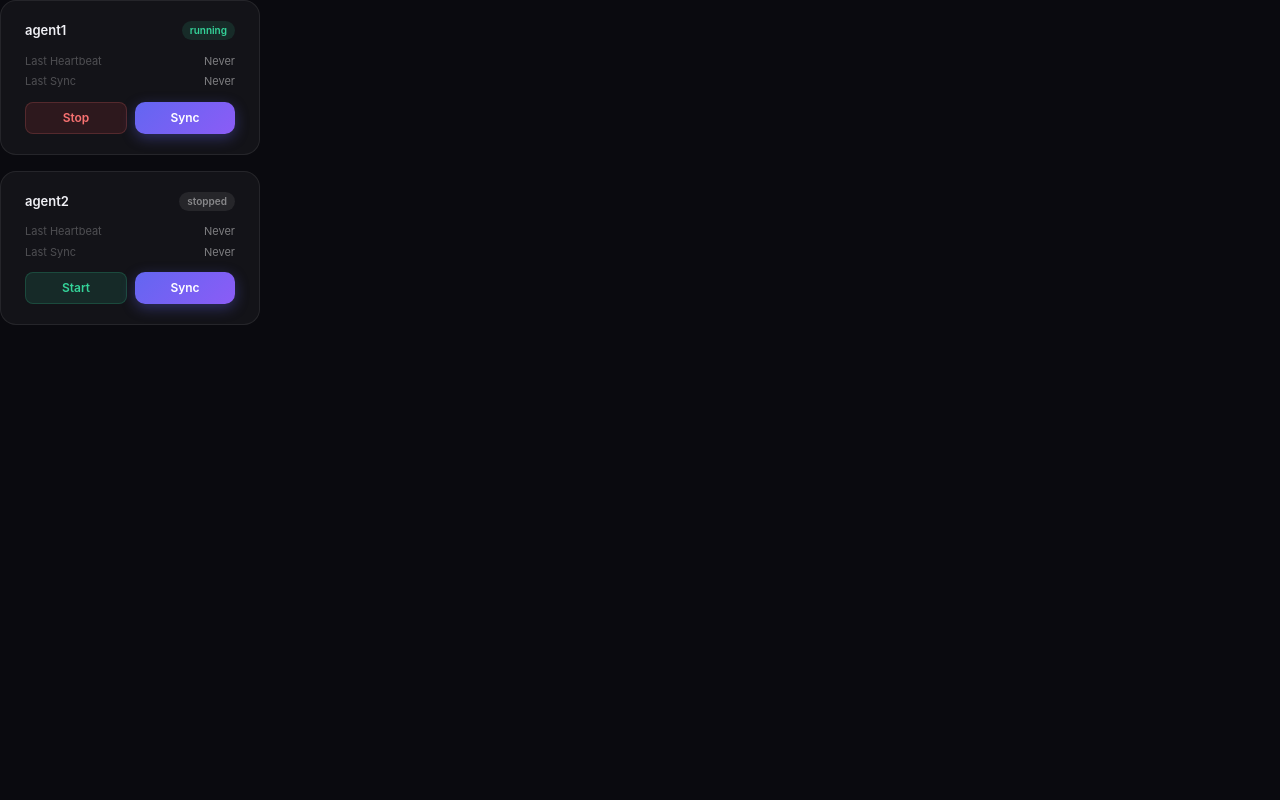
Test case: WatcherControls › cancels stop when cancel clicked
Click the button with test id "stop-btn-agent1" at (76, 118), box [25,102,127,134]
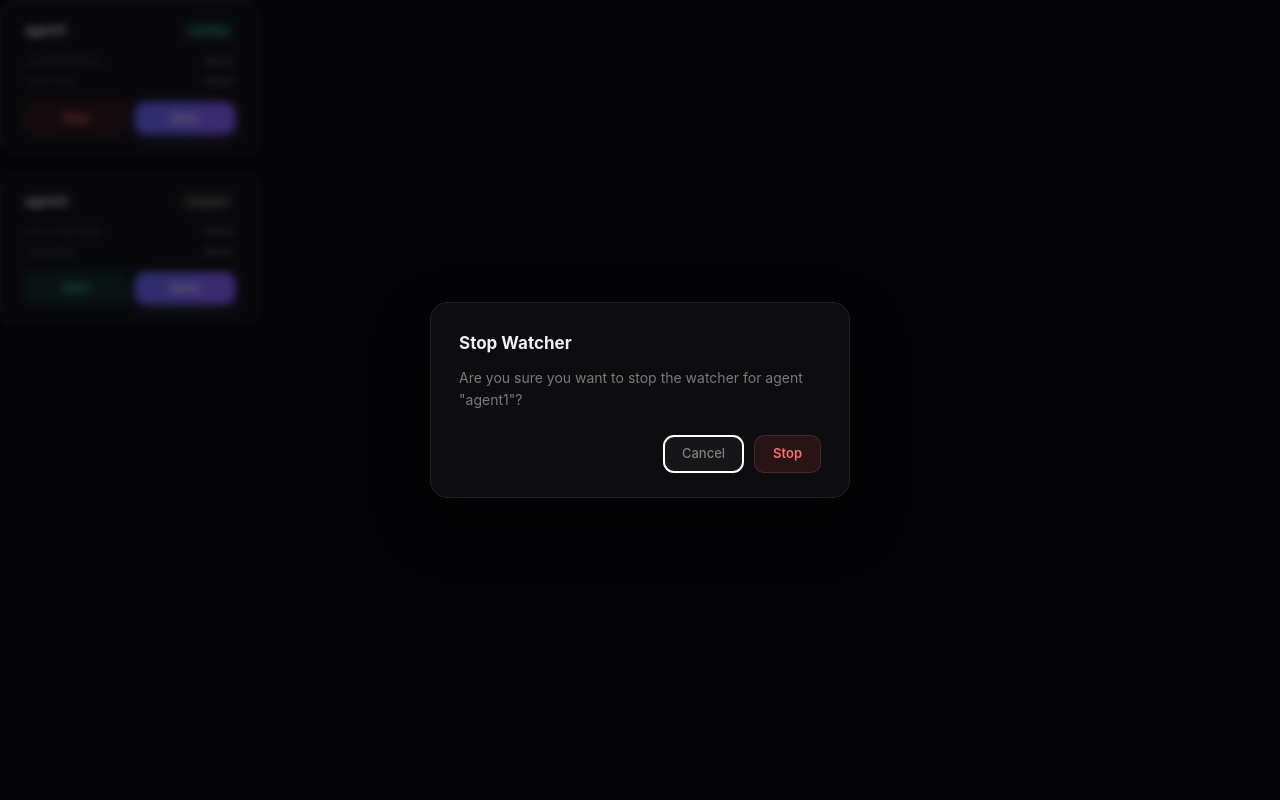
Click the button with test id "confirm-dialog-cancel" at (704, 454), box [663,435,744,473]
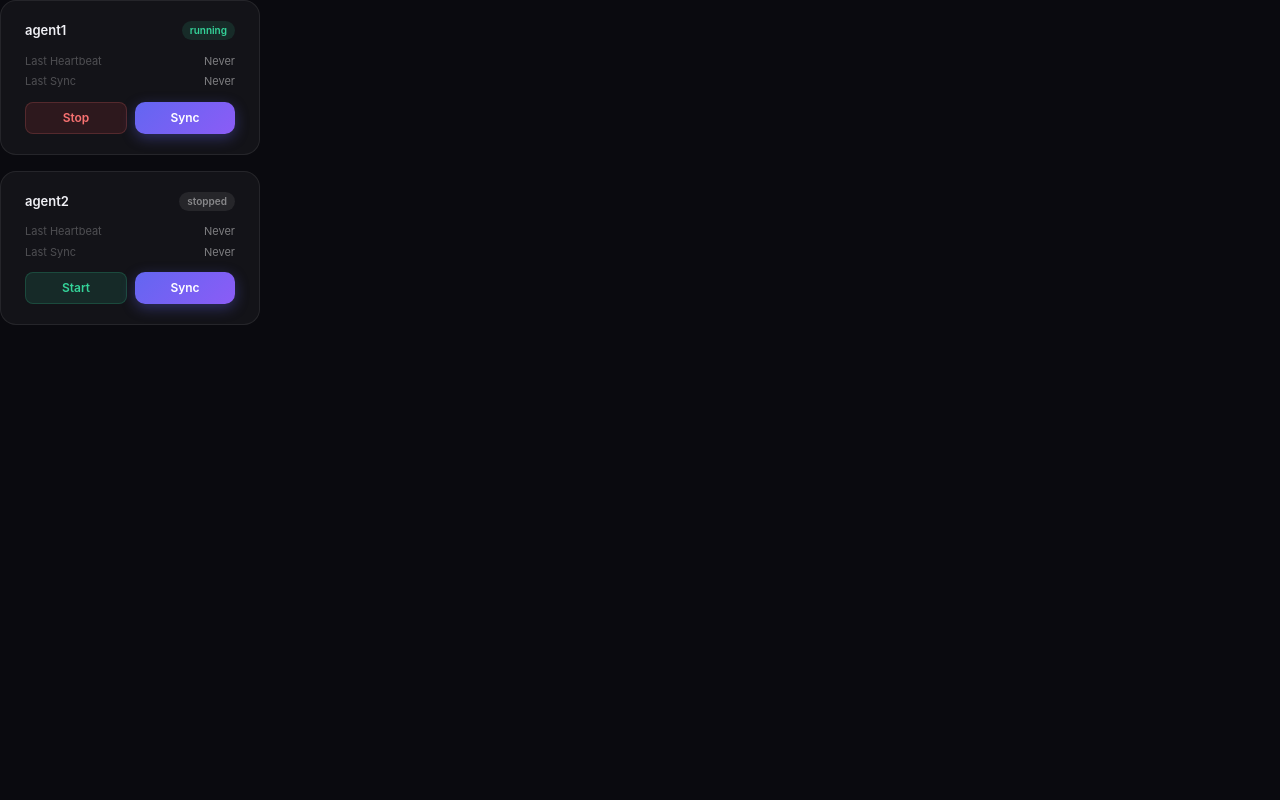
Expected: the dialog with test id "confirm-dialog" is gone
